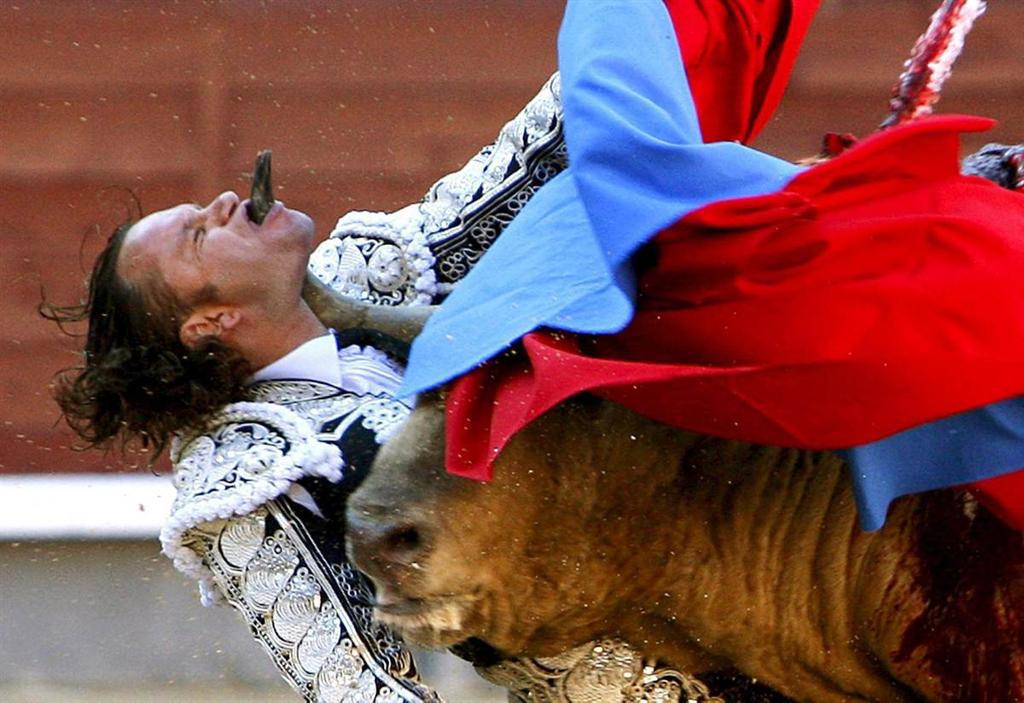face: (115, 193, 313, 309)
